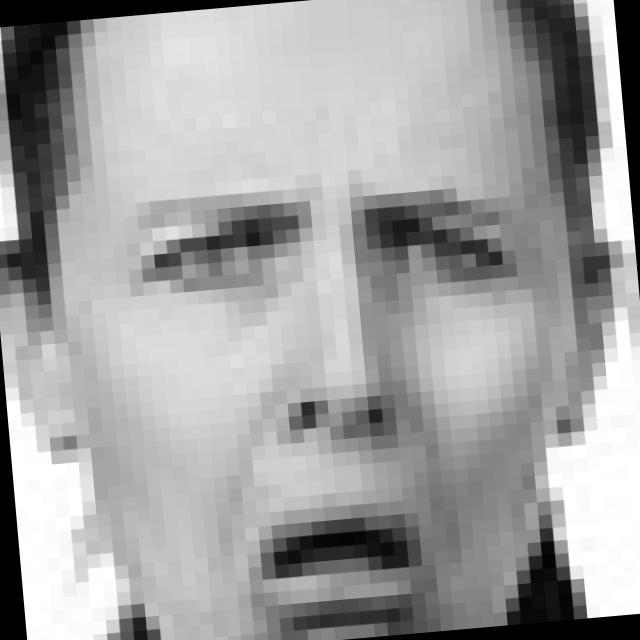disgust: (120, 157, 547, 640)
